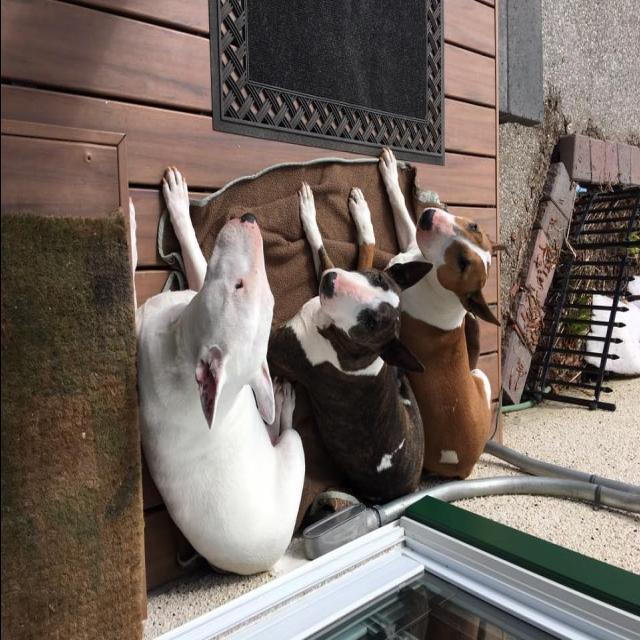Dogs: (112, 158, 310, 578), (252, 178, 426, 502), (344, 136, 499, 476)
